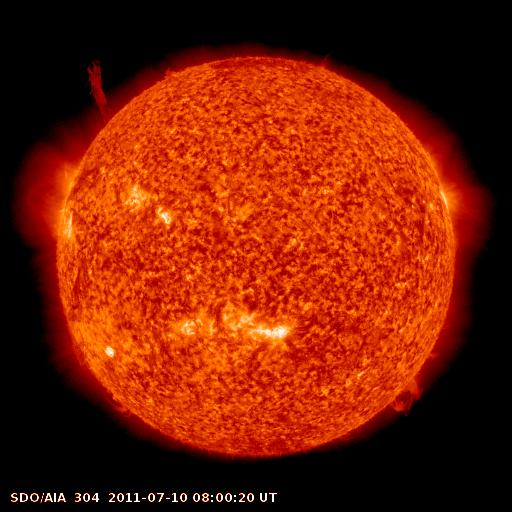prominence: (81, 54, 131, 135), (383, 374, 431, 421), (98, 386, 131, 424)
